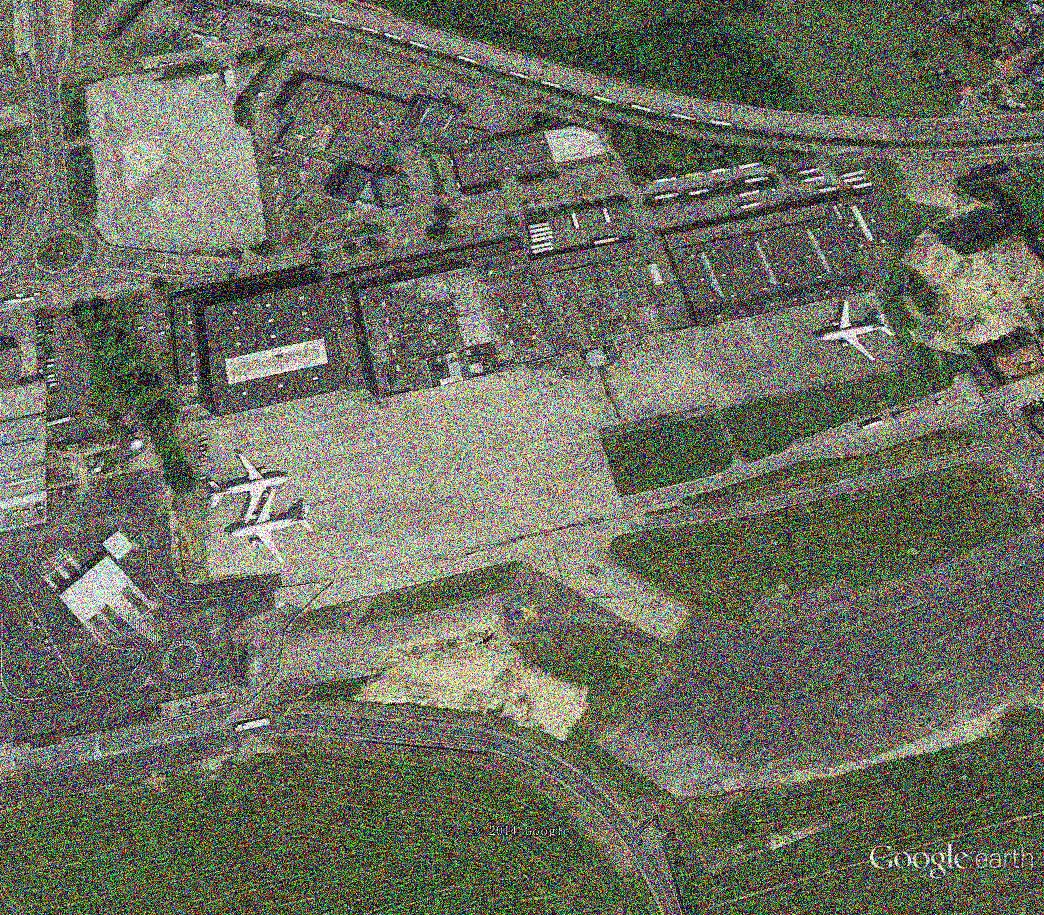aircraft: (219, 484, 319, 567), (201, 448, 292, 532), (814, 297, 901, 366)
